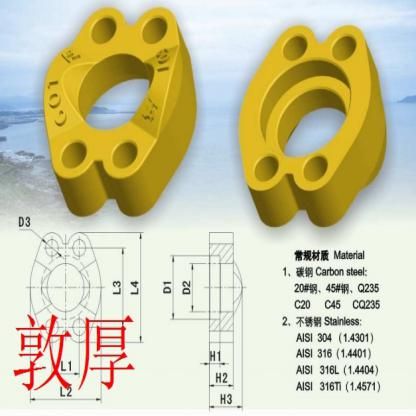FOD: (42, 3, 204, 227), (237, 19, 390, 234)
